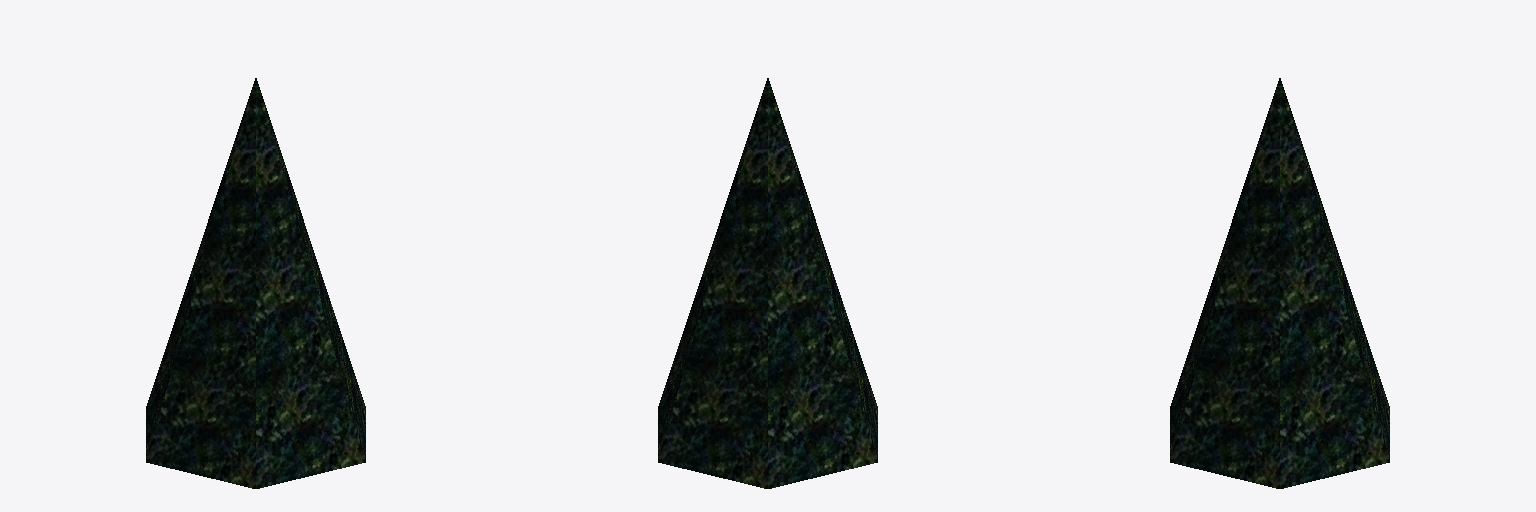
3 views of the same model, side by side, from view 1: azimuth 30°, elevation 25°; view 2: azimuth 150°, elevation 25°; view 3: azimuth 270°, elevation 25° (orthographic).
Parts seen in each view (by area): view 1: treetop; view 2: treetop; view 3: treetop.
Boxes of the visible parts, <box> form: treetop: <box>146,78,365,488</box>; treetop: <box>658,78,877,488</box>; treetop: <box>1170,78,1389,488</box>.
Size of the model in its own units: 2.07 by 3.22 by 1.79.
Materials: 1 (1 with a texture image).